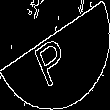P_NW: (33, 24, 77, 86)
